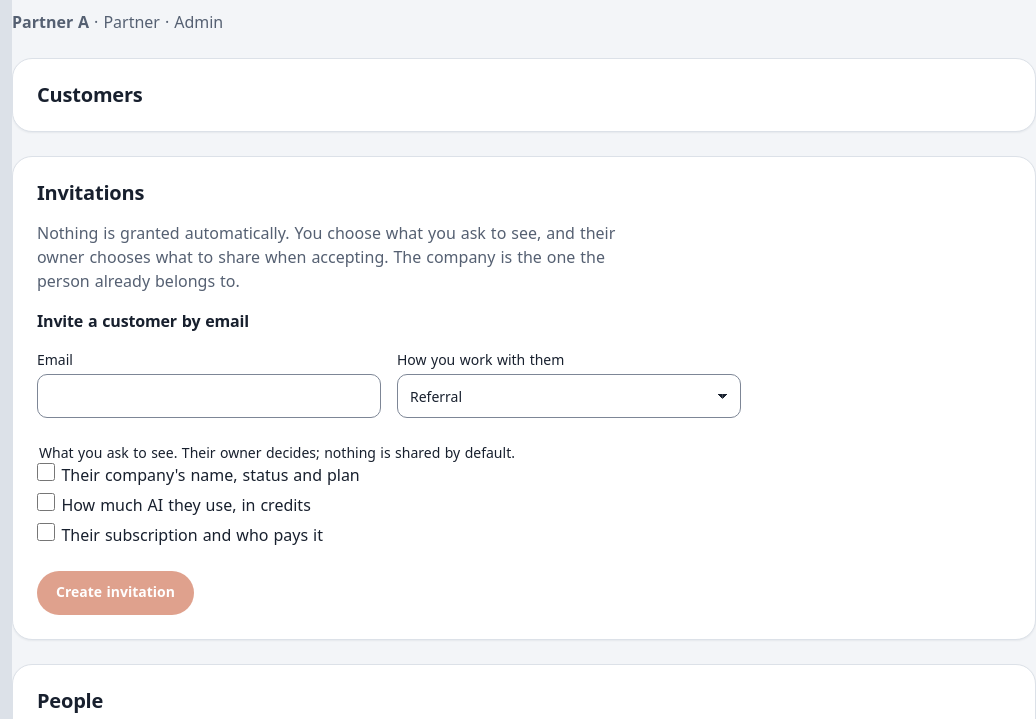
the partner console (ADR-0090) › copies the link, and says so when the browser cannot
Type "ana@example.com" into the field labelled "Email" at [209, 396], box [37,374,381,418]
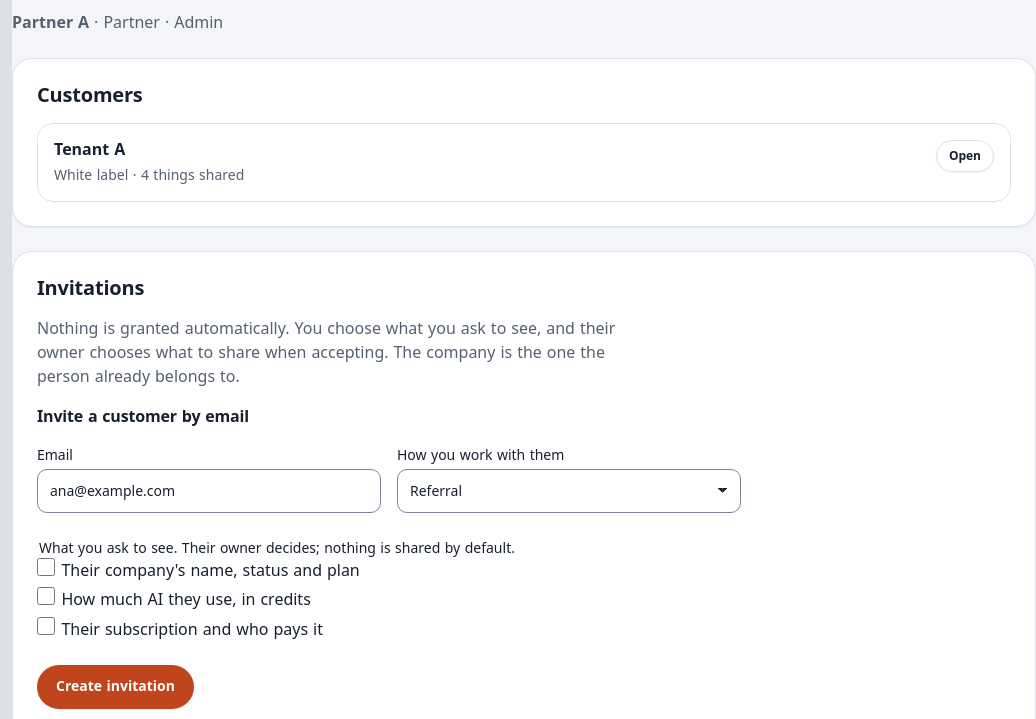
Click the button "Create invitation" at [116, 687], box [37,665,194,709]
(page scrolled)
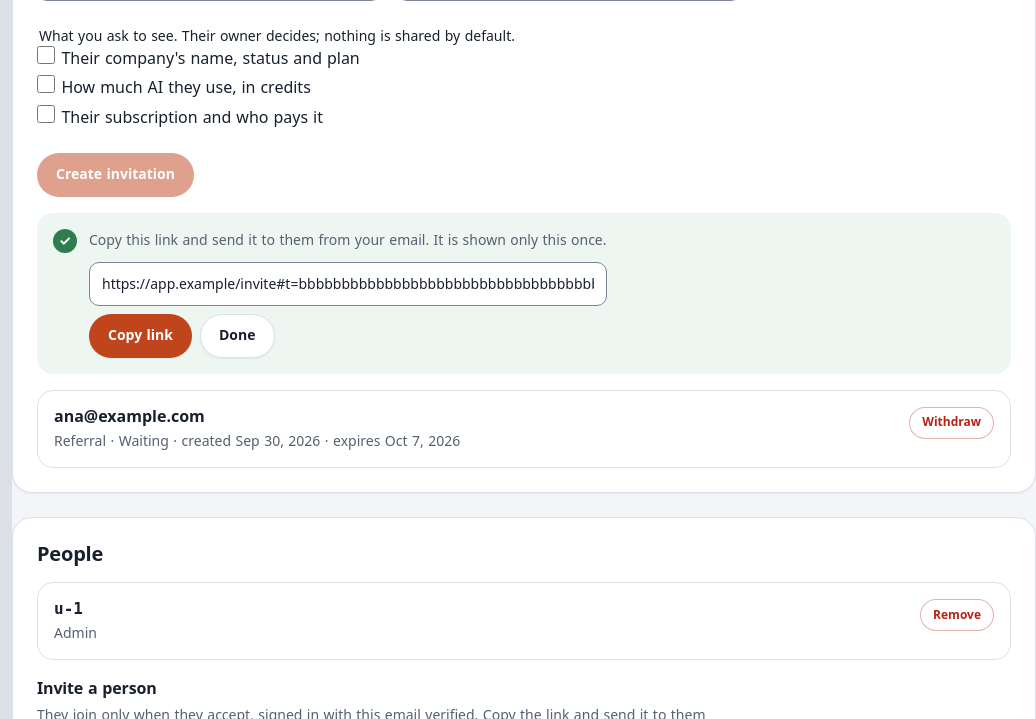
Click the button "Copy link" at [140, 336], box [89,314,192,358]
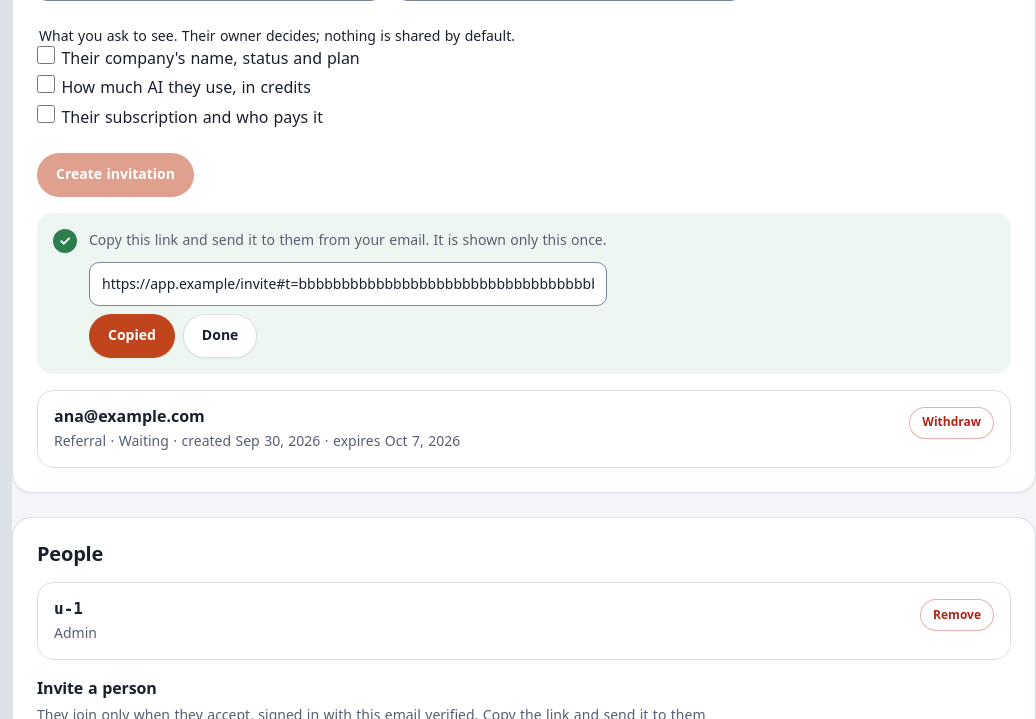
expect the button "Copied" is shown: met
Click the button "Copied" at [132, 336], box [89,314,175,358]
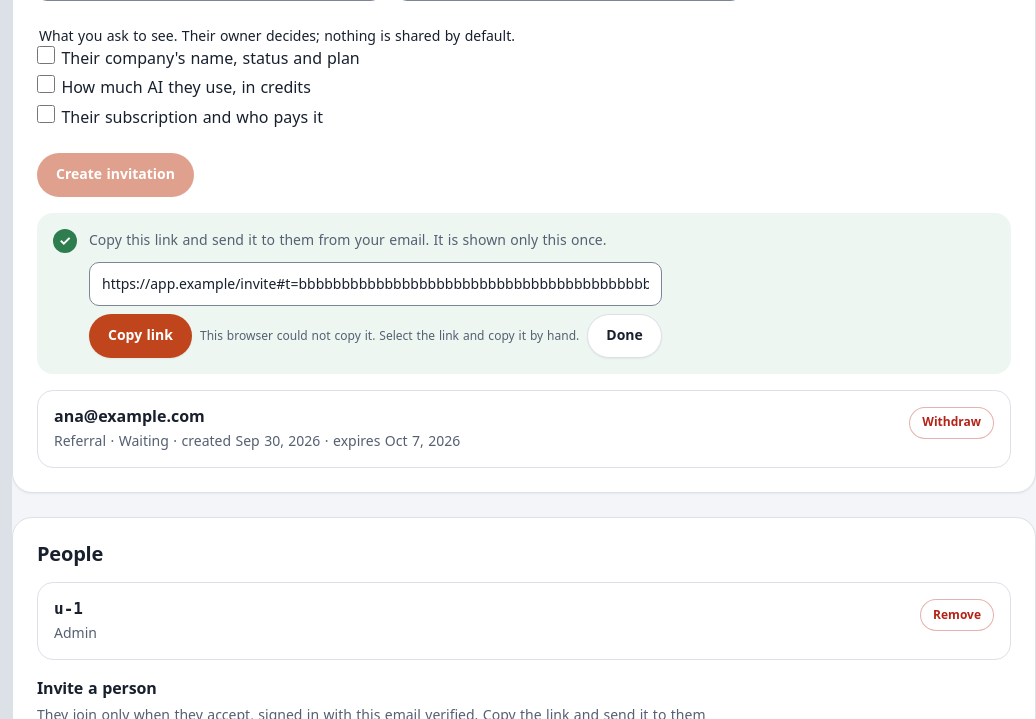
expect the text "could not copy it" is shown: met, box [200,327,579,344]
